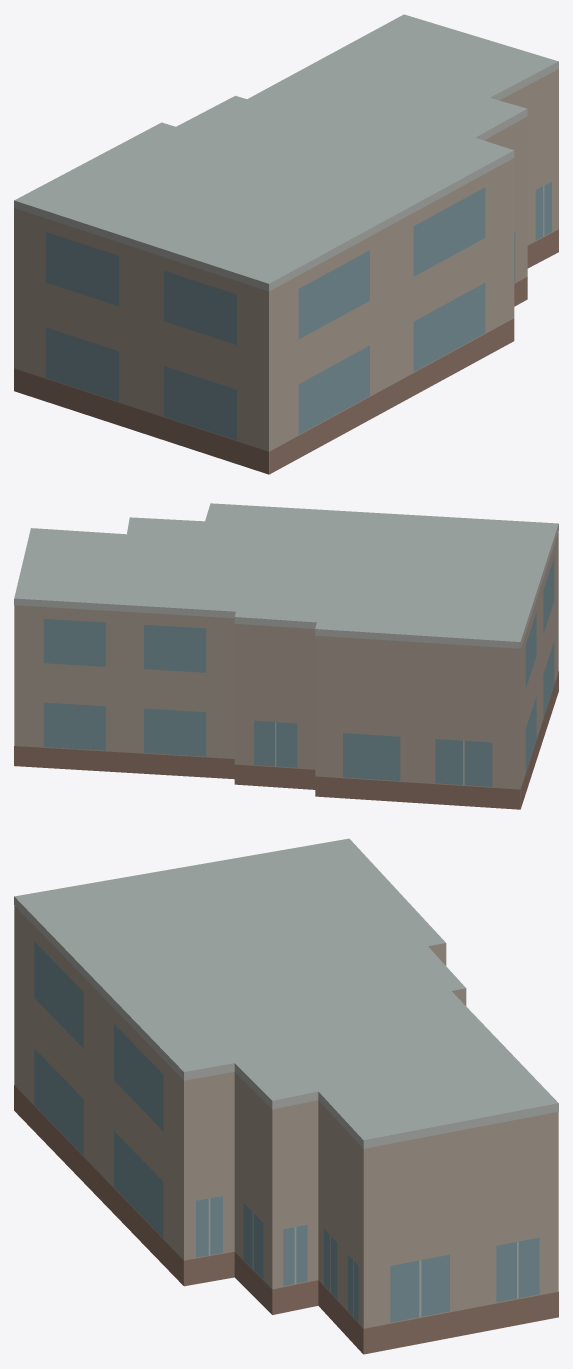
File: survey-upis-32959342.glb
3 renders of one model, top to bottom at view 1: azimuth 30°, elevation 25°; view 2: azimuth 150°, elevation 25°; view 3: azimuth 270°, elevation 25°, orthographic. The views are drawn at different scales.
Parts seen in each view (by area): view 1: survey-upis-32959342.tmp; view 2: survey-upis-32959342.tmp; view 3: survey-upis-32959342.tmp.
Boxes of the visible parts, x1,y1,x2,y2 form: survey-upis-32959342.tmp: [14, 14, 558, 474]; survey-upis-32959342.tmp: [14, 503, 558, 809]; survey-upis-32959342.tmp: [14, 838, 558, 1354].
Size of the model in its own units: 18.46 by 6.1 by 14.07.
